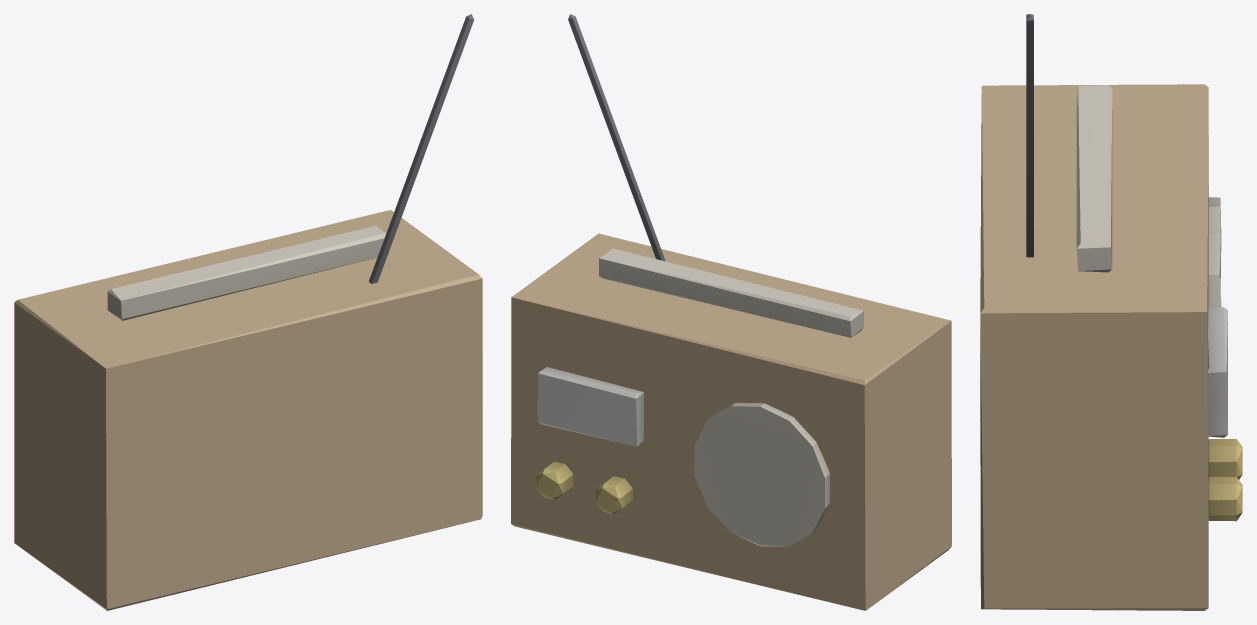
The model's file is furn_radio__oak_low.glb.
The picture shows the model from 3 angles, left to right: view 1: azimuth 30°, elevation 25°; view 2: azimuth 150°, elevation 25°; view 3: azimuth 270°, elevation 25°; orthographic projection. The views are drawn at different scales.
Bounding box in the file's own units: 0.4279 × 0.5182 × 0.2041.
